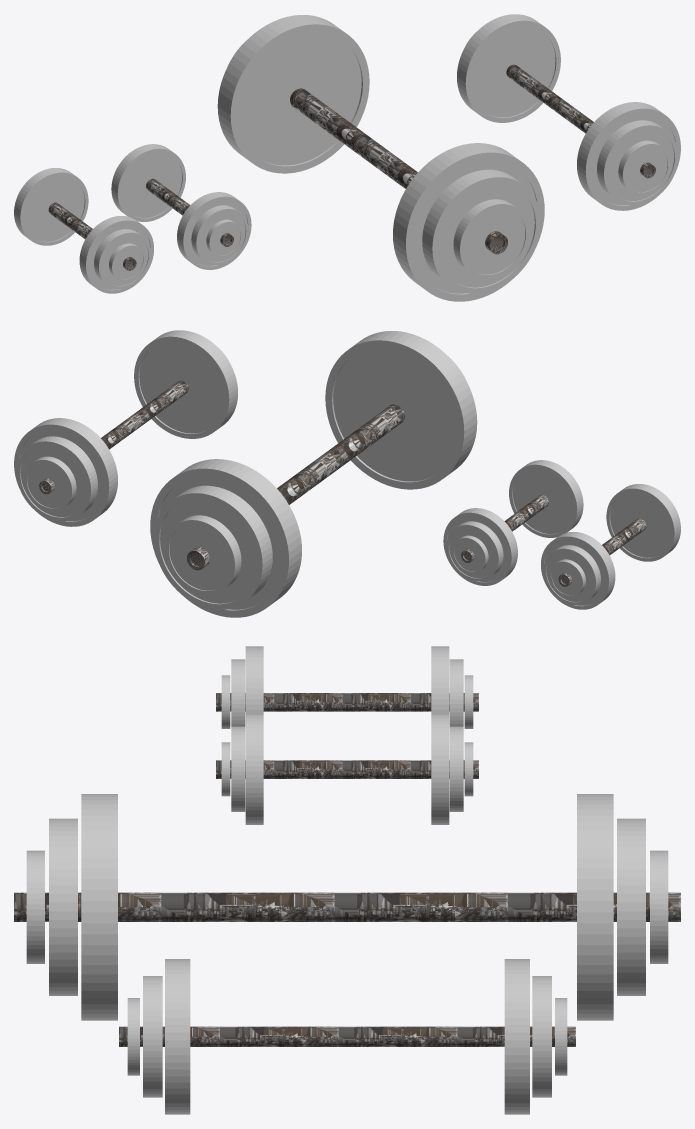
3 views of the same model, one above another, from view 1: azimuth 30°, elevation 25°; view 2: azimuth 150°, elevation 25°; view 3: azimuth 270°, elevation 25° (orthographic). The views are drawn at different scales.
Parts seen in each view (by area): view 1: Disco_mancuernas_0, Disco_mancuernas.009_12, Disco_mancuernas.001_1, Disco_mancuernas.006_8, Disco_mancuernas.003_4, Disco_mancuernas.002_2, Barra_3, Disco_mancuernas.010_13, Disco_mancuernas.011_14, Barra2_15, Disco_mancuernas.004_5, Disco_mancuernas.007_9 (+4 smaller); view 2: Disco_mancuernas_0, Disco_mancuernas.009_12, Disco_mancuernas.001_1, Disco_mancuernas.006_8, Disco_mancuernas.003_4, Disco_mancuernas.002_2, Barra_3, Disco_mancuernas.010_13, Disco_mancuernas.011_14, Barra2_15, Disco_mancuernas.004_5, Disco_mancuernas.007_9 (+4 smaller); view 3: Disco_mancuernas_0, Barra_3, Disco_mancuernas.001_1, Disco_mancuernas.009_12, Barra2_15, Disco_mancuernas.010_13, Disco_mancuernas.002_2, Disco_mancuernas.003_4, Mancuerna_7, Mancuerna2_11, Disco_mancuernas.006_8, Disco_mancuernas.004_5 (+4 smaller).
Boxes of the visible parts, x1,y1,x2,y2 form: Disco_mancuernas_0: [217, 15, 544, 301]; Disco_mancuernas.009_12: [457, 14, 680, 210]; Disco_mancuernas.001_1: [228, 40, 540, 293]; Disco_mancuernas.006_8: [14, 168, 153, 293]; Disco_mancuernas.003_4: [111, 144, 251, 269]; Disco_mancuernas.002_2: [453, 199, 529, 278]; Barra_3: [290, 88, 507, 254]; Disco_mancuernas.010_13: [466, 31, 678, 205]; Disco_mancuernas.011_14: [618, 140, 670, 194]; Barra2_15: [506, 64, 655, 178]; Disco_mancuernas.004_5: [191, 205, 248, 265]; Disco_mancuernas.007_9: [94, 229, 151, 288]; Disco_mancuernas_0: [150, 331, 477, 617]; Disco_mancuernas.009_12: [14, 330, 237, 526]; Disco_mancuernas.001_1: [154, 356, 466, 609]; Disco_mancuernas.006_8: [541, 484, 680, 609]; Disco_mancuernas.003_4: [443, 460, 583, 585]; Disco_mancuernas.002_2: [165, 515, 241, 594]; Barra_3: [187, 404, 404, 570]; Disco_mancuernas.010_13: [16, 347, 228, 521]; Disco_mancuernas.011_14: [24, 456, 76, 510]; Barra2_15: [39, 380, 188, 494]; Disco_mancuernas.004_5: [446, 521, 503, 581]; Disco_mancuernas.007_9: [543, 545, 600, 604]; Disco_mancuernas_0: [81, 794, 613, 1020]; Barra_3: [14, 892, 680, 921]; Disco_mancuernas.001_1: [49, 818, 645, 995]; Disco_mancuernas.009_12: [165, 959, 529, 1114]; Barra2_15: [119, 1026, 575, 1046]; Disco_mancuernas.010_13: [143, 976, 551, 1097]; Disco_mancuernas.002_2: [26, 850, 668, 963]; Disco_mancuernas.003_4: [245, 713, 449, 824]; Mancuerna_7: [216, 760, 478, 778]; Mancuerna2_11: [216, 693, 478, 711]; Disco_mancuernas.006_8: [245, 646, 449, 713]; Disco_mancuernas.004_5: [231, 726, 463, 811].
Bounding box in the file's own units: 1.99 × 0.4877 × 1.43.
